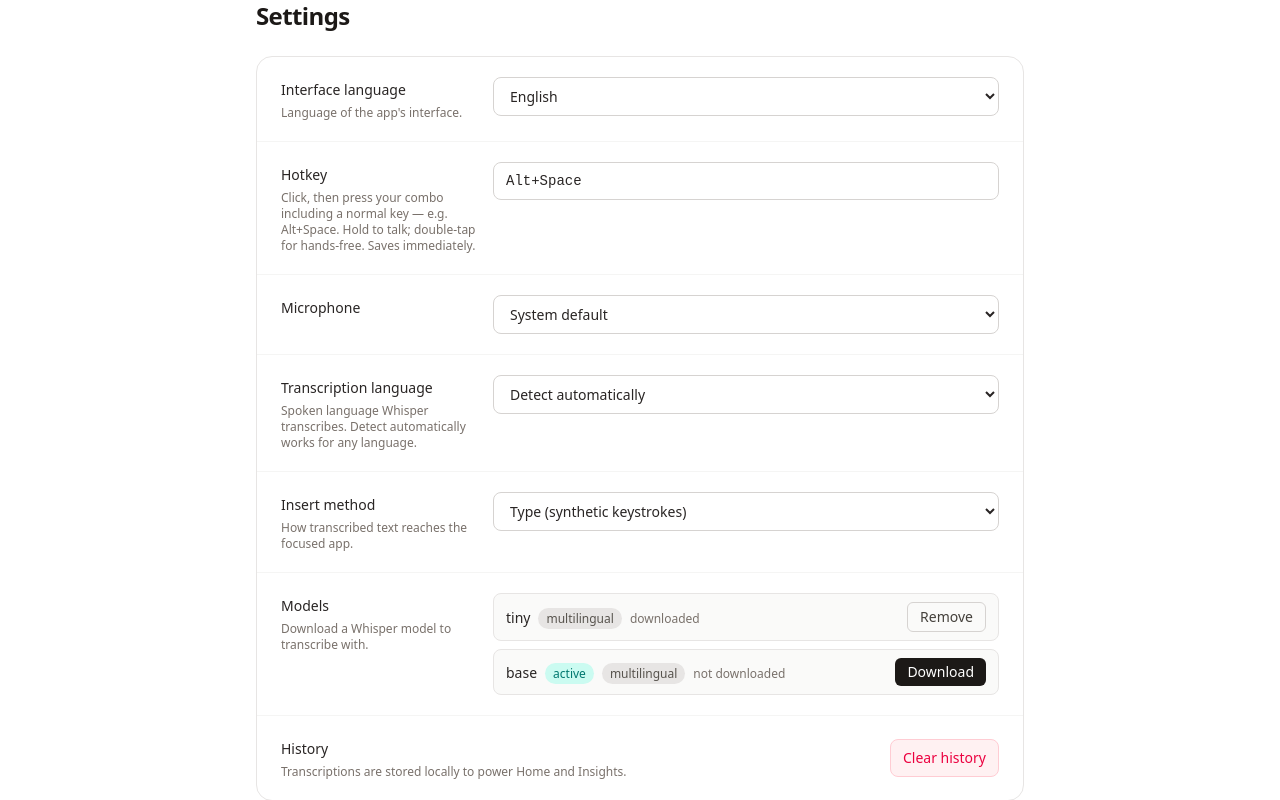
Test: Settings › clicking Download opens the download confirm modal
Click the button "Download" at (941, 672), box x1=895 y1=658 x2=986 y2=686
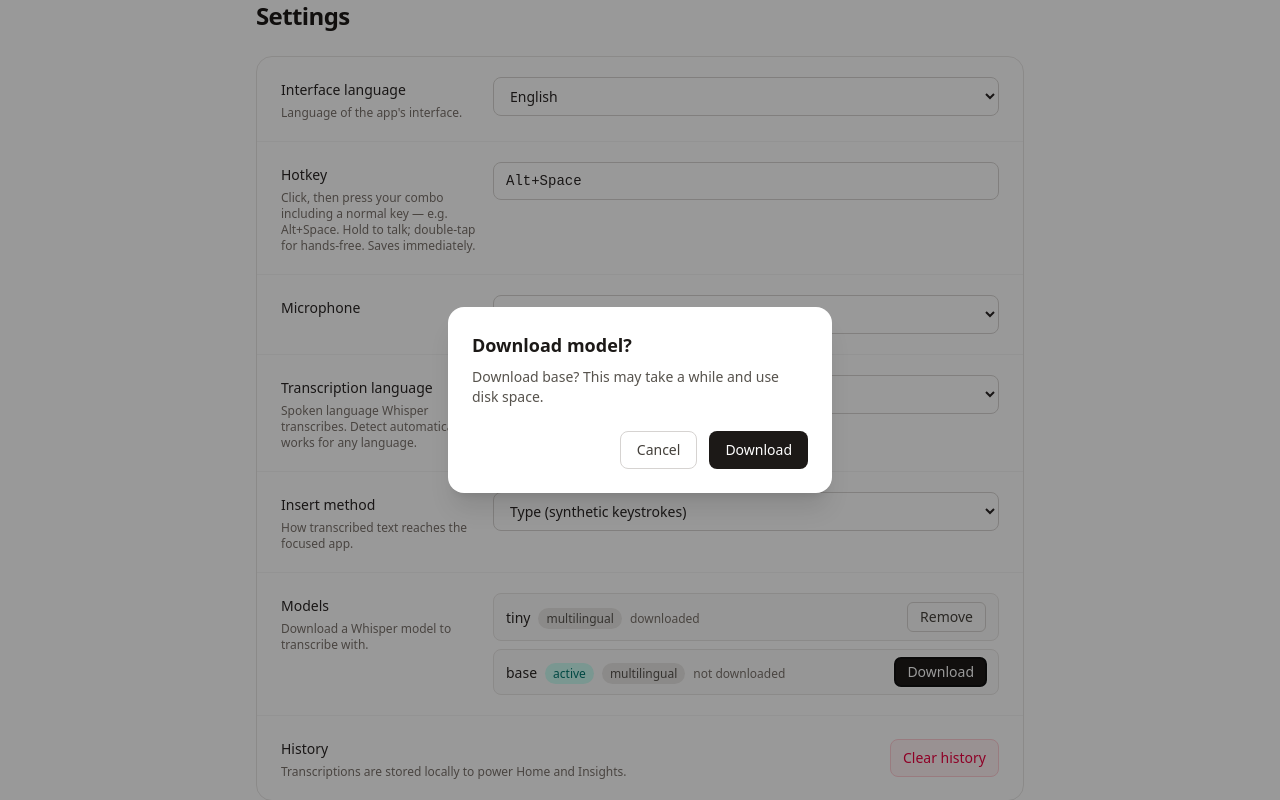
Check: the dialog is shown, box x1=448 y1=307 x2=832 y2=493
Check: the heading "Download model?" is shown, box x1=472 y1=333 x2=632 y2=357
